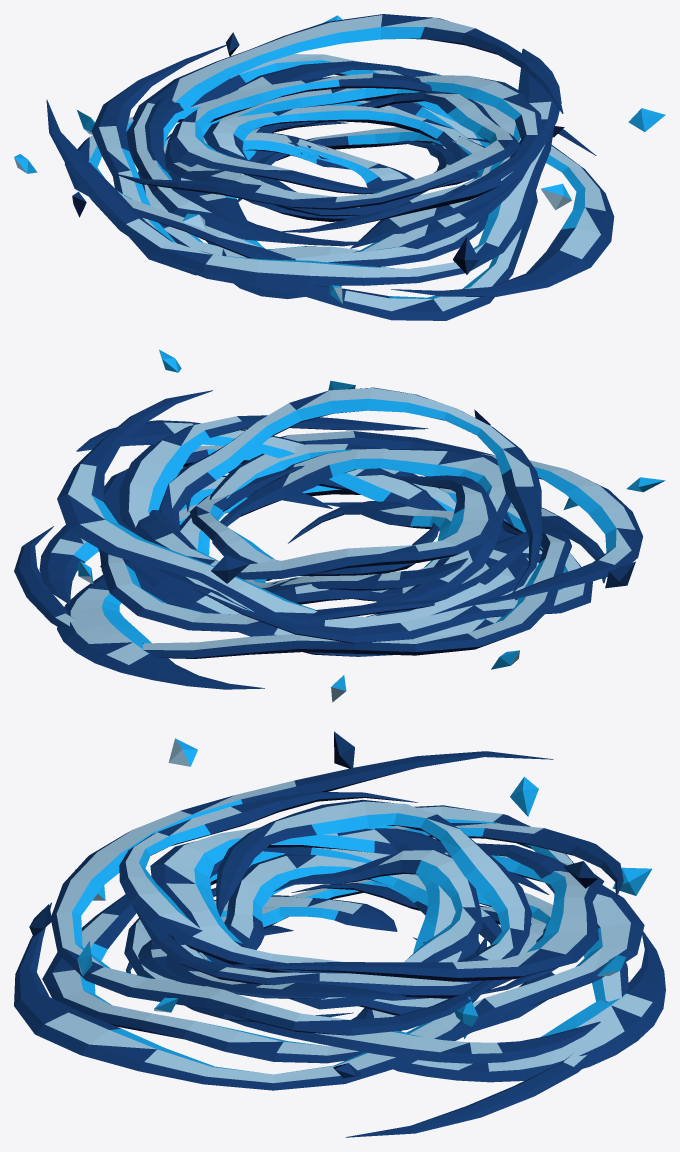
File: Vortex_Slam.fbx
3 renders of one model, top to bottom at view 1: azimuth 30°, elevation 25°; view 2: azimuth 150°, elevation 25°; view 3: azimuth 270°, elevation 25°, orthographic. The views are drawn at different scales.
Visible parts, largest first — view 1: VORTEX_IMPACT, Inward_Stream_12, Inward_Stream_11, Inward_Stream_06, Inward_Stream_13, Inward_Stream_14, Inward_Stream_07, Inward_Stream_02, Inward_Stream_08, Inward_Stream_10, Inward_Stream_04, Inward_Stream_03 (+3 smaller); view 2: VORTEX_IMPACT, Inward_Stream_12, Inward_Stream_13, Inward_Stream_01, Inward_Stream_09, Inward_Stream_14, Inward_Stream_06, Inward_Stream_11, Inward_Stream_08, Inward_Stream_07, Inward_Stream_10, Inward_Stream_05 (+3 smaller); view 3: VORTEX_IMPACT, Inward_Stream_06, Inward_Stream_11, Inward_Stream_14, Inward_Stream_02, Inward_Stream_13, Inward_Stream_12, Inward_Stream_09, Inward_Stream_10, Inward_Stream_08, Inward_Stream_01, Inward_Stream_05 (+3 smaller).
Part boxes in pixels (x1,y1,x2,y2): VORTEX_IMPACT: (14,15,665,303); Inward_Stream_12: (126,14,563,246); Inward_Stream_11: (46,64,553,285); Inward_Stream_06: (145,54,614,297); Inward_Stream_13: (114,90,520,209); Inward_Stream_14: (169,73,431,194); Inward_Stream_07: (91,45,489,275); Inward_Stream_02: (165,98,537,320); Inward_Stream_08: (218,75,542,202); Inward_Stream_10: (203,105,472,191); Inward_Stream_04: (237,127,501,232); Inward_Stream_03: (138,61,403,258); VORTEX_IMPACT: (39,349,665,702); Inward_Stream_12: (57,390,529,628); Inward_Stream_13: (158,387,542,592); Inward_Stream_01: (14,522,571,658); Inward_Stream_09: (212,448,511,605); Inward_Stream_14: (132,474,499,579); Inward_Stream_06: (98,431,493,632); Inward_Stream_11: (103,445,642,608); Inward_Stream_08: (119,415,445,616); Inward_Stream_07: (186,463,592,643); Inward_Stream_10: (190,465,439,576); Inward_Stream_05: (271,501,453,604); VORTEX_IMPACT: (29,731,665,1082); Inward_Stream_06: (14,843,644,1090); Inward_Stream_11: (51,751,553,1035); Inward_Stream_14: (216,799,531,1000); Inward_Stream_02: (42,876,554,1063); Inward_Stream_13: (119,792,486,973); Inward_Stream_12: (211,853,604,981); Inward_Stream_09: (150,827,549,969); Inward_Stream_10: (244,850,482,1009); Inward_Stream_08: (131,883,545,998); Inward_Stream_01: (126,805,628,1137); Inward_Stream_05: (224,855,501,949).
Size of the model in its own units: 893 by 191 by 824.
